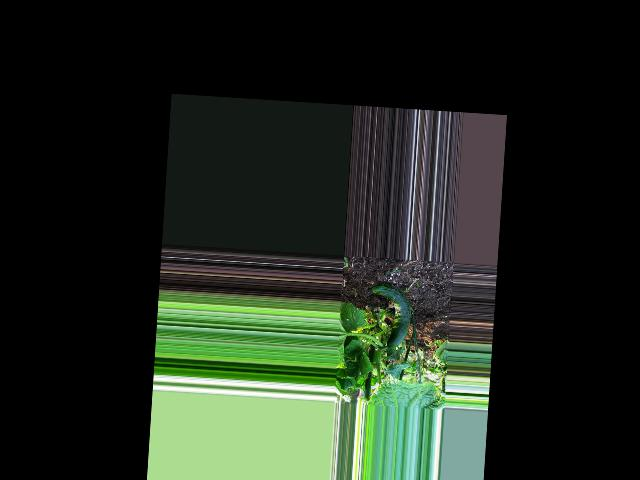cucumber: (367, 282, 413, 350)
